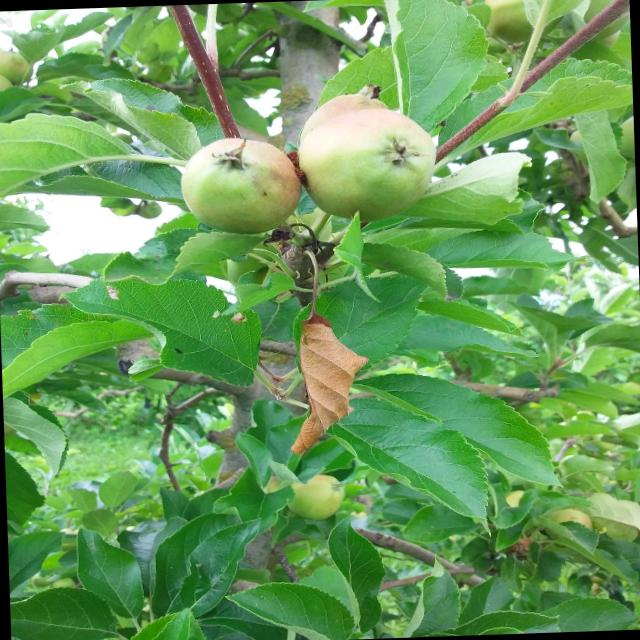-FireBlight-: (283, 290, 366, 458)
